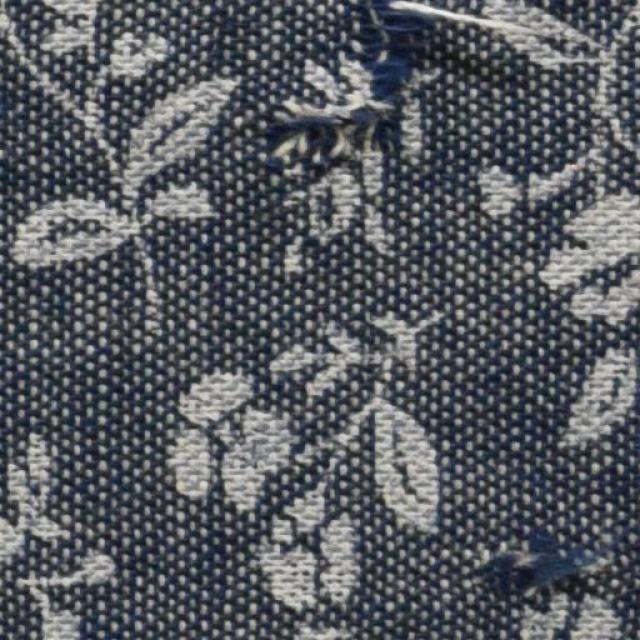Snag: (270, 0, 437, 189), (485, 521, 594, 608)
